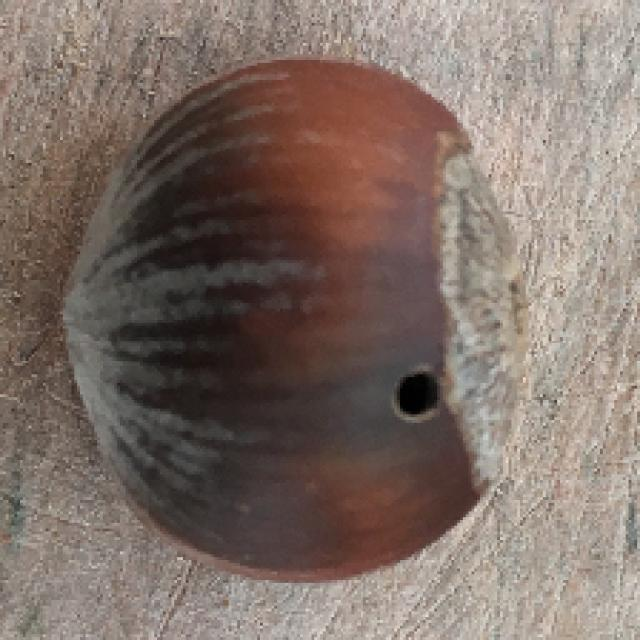damagedHazelnut: (42, 60, 523, 575)
